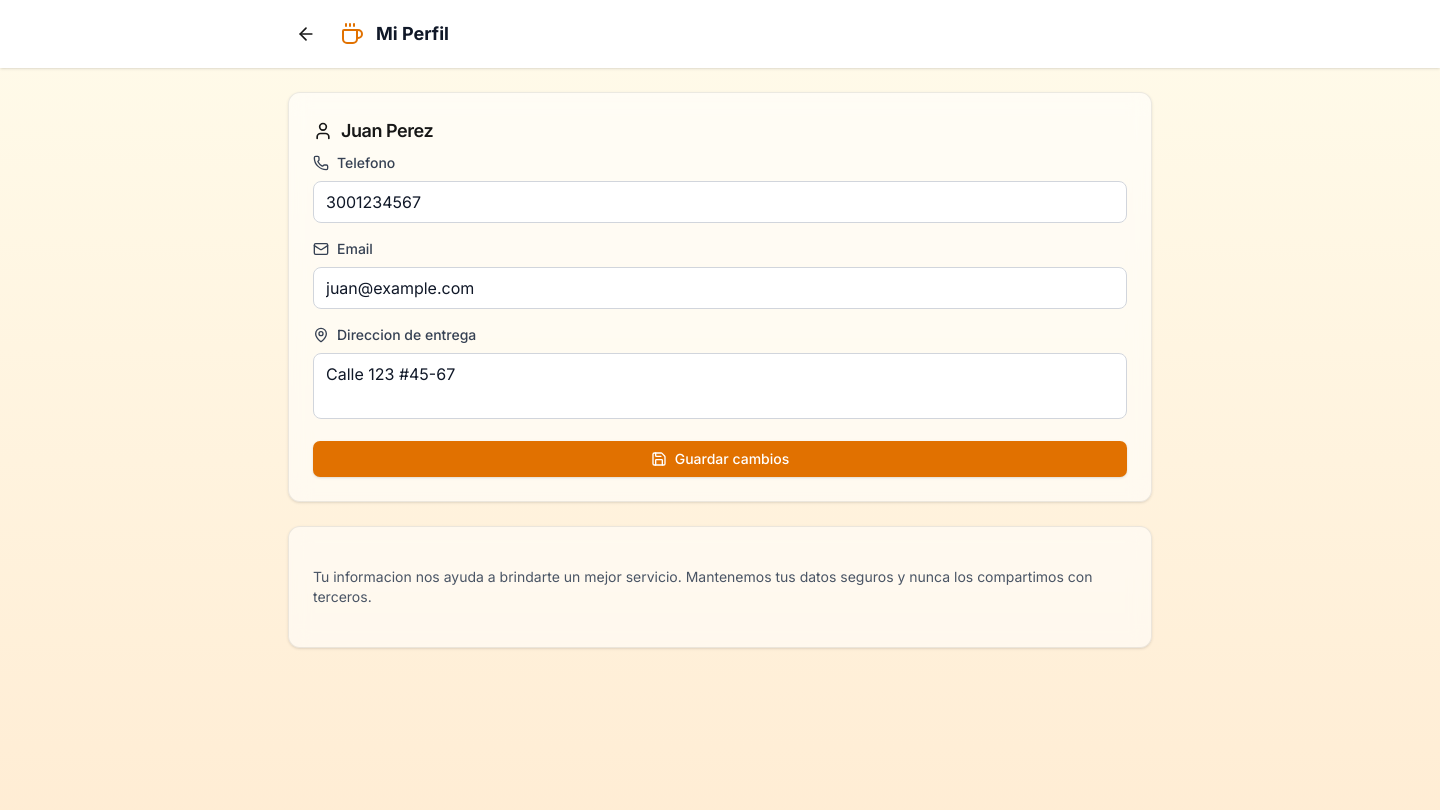
Scenario: PortalPerfilPage › Error Handling › should show error from API response
Expected: the field showing "3001234567" below "Telefono" is shown, [313,181,1127,223]
Click the button "Guardar cambios" at (720, 459), box [313,441,1127,477]
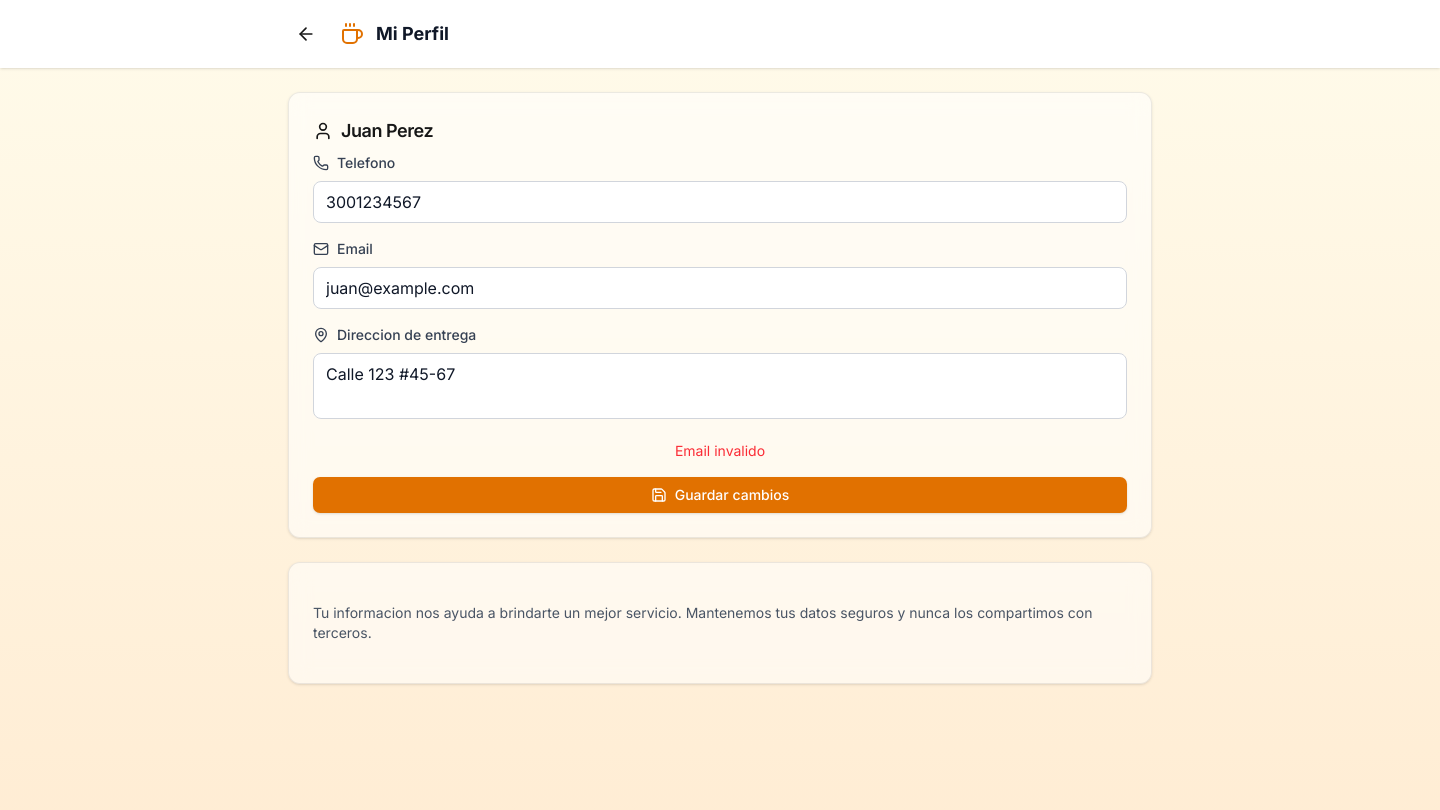
Expected: the text "Email invalido" is shown, [675,442,765,459]
